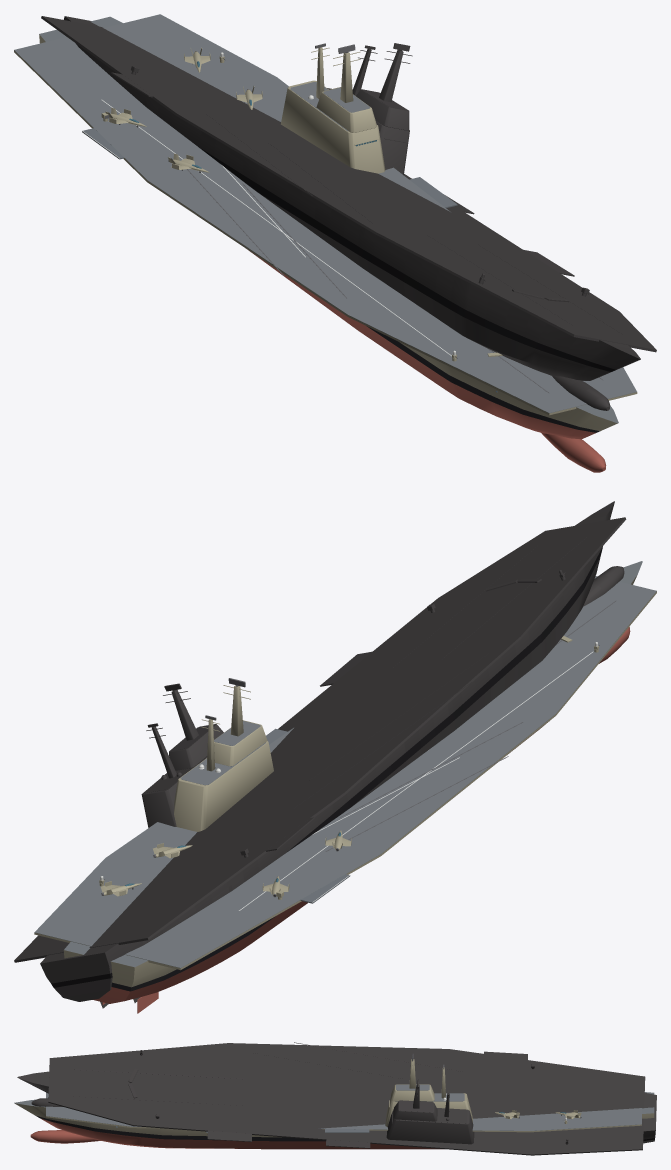
File: carrier__gerald_r_ford_class.glb
3 renders of one model, top to bottom at view 1: azimuth 30°, elevation 25°; view 2: azimuth 150°, elevation 25°; view 3: azimuth 270°, elevation 25°, orthographic. The views are drawn at different scales.
Visible parts, largest first — view 1: Wreck, Hull_Mesh; view 2: Wreck, Hull_Mesh; view 3: Wreck, Hull_Mesh.
Part boxes in pixels (x1=…): Wreck: x1=41, y1=16, x2=656, y2=410; Hull_Mesh: x1=14, y1=14, x2=637, y2=472; Wreck: x1=14, y1=501, x2=626, y2=1008; Hull_Mesh: x1=34, y1=561, x2=656, y2=1013; Wreck: x1=17, y1=1042, x2=656, y2=1155; Hull_Mesh: x1=14, y1=1059, x2=654, y2=1149.
Size of what is drawn, in the model's own units: 90.17 by 65.12 by 353.
